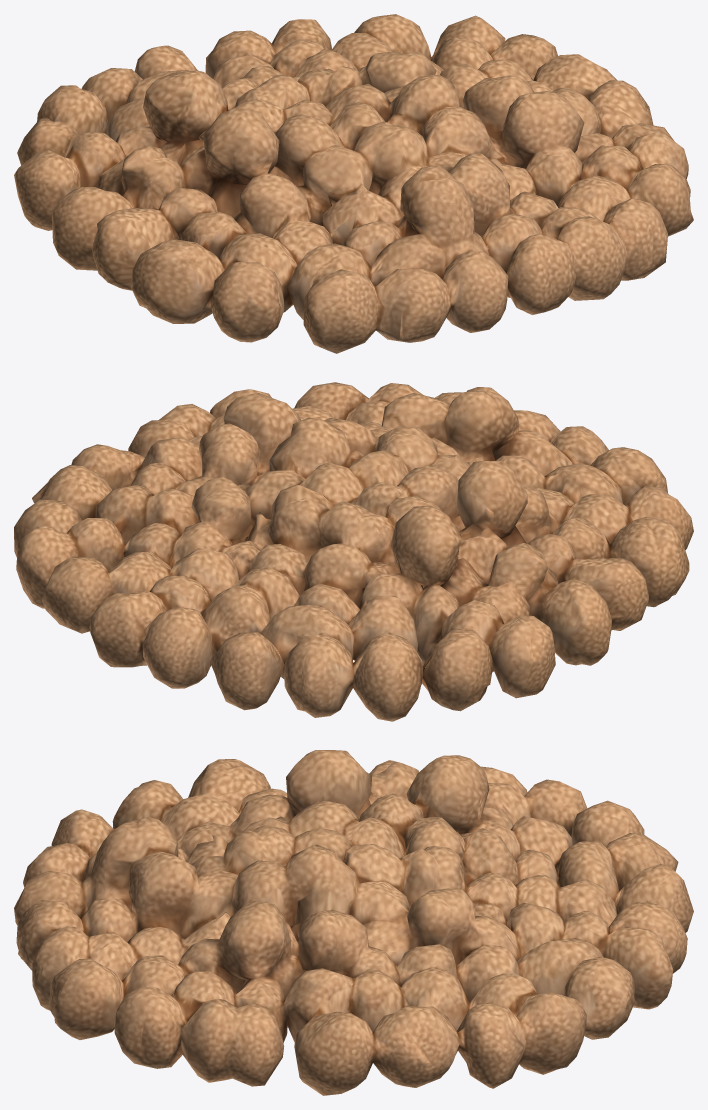
The model's file is Garbanzos_Crudos.fbx.
The picture shows the model from 3 angles, top to bottom: view 1: azimuth 30°, elevation 25°; view 2: azimuth 150°, elevation 25°; view 3: azimuth 270°, elevation 25°; orthographic projection. The views are drawn at different scales.
Visible parts, largest first — view 1: Mesh_0; view 2: Mesh_0; view 3: Mesh_0.
Part boxes in pixels (<box>): Mesh_0: <box>14,14,693,353</box>; Mesh_0: <box>14,382,693,721</box>; Mesh_0: <box>14,750,693,1095</box>.
Bounding box in the file's own units: 185 × 46.7 × 187.
1 material, 1 textured.
